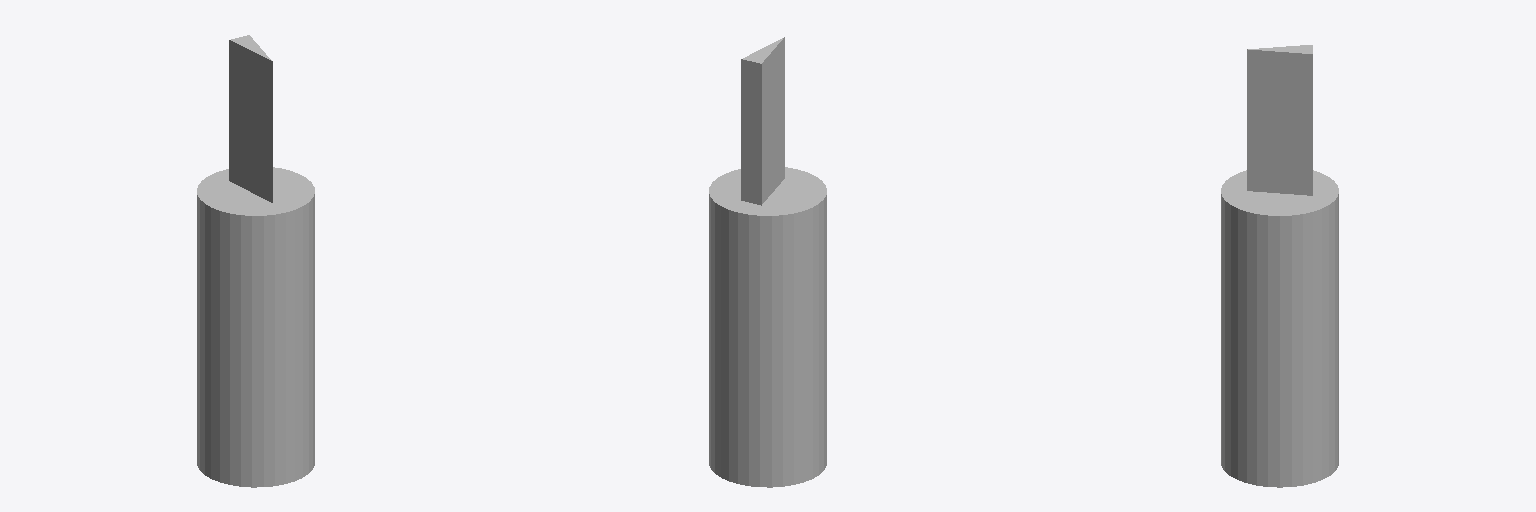
File: simpleknife.obj
The picture shows the model from 3 angles: view 1: azimuth 30°, elevation 25°; view 2: azimuth 150°, elevation 25°; view 3: azimuth 270°, elevation 25°; orthographic projection.
Parts seen in each view (by area): view 1: Cylinder, Cube_Cube.001; view 2: Cylinder, Cube_Cube.001; view 3: Cylinder, Cube_Cube.001.
Part boxes in pixels (left/top/right/bottom): Cylinder: left=197, top=167, right=314, bottom=487; Cube_Cube.001: left=229, top=35, right=272, bottom=202; Cylinder: left=709, top=167, right=826, bottom=487; Cube_Cube.001: left=741, top=37, right=784, bottom=205; Cylinder: left=1221, top=170, right=1338, bottom=487; Cube_Cube.001: left=1247, top=45, right=1312, bottom=195.
Bounding box in the file's own units: 0.7178 × 2.76 × 0.7178.